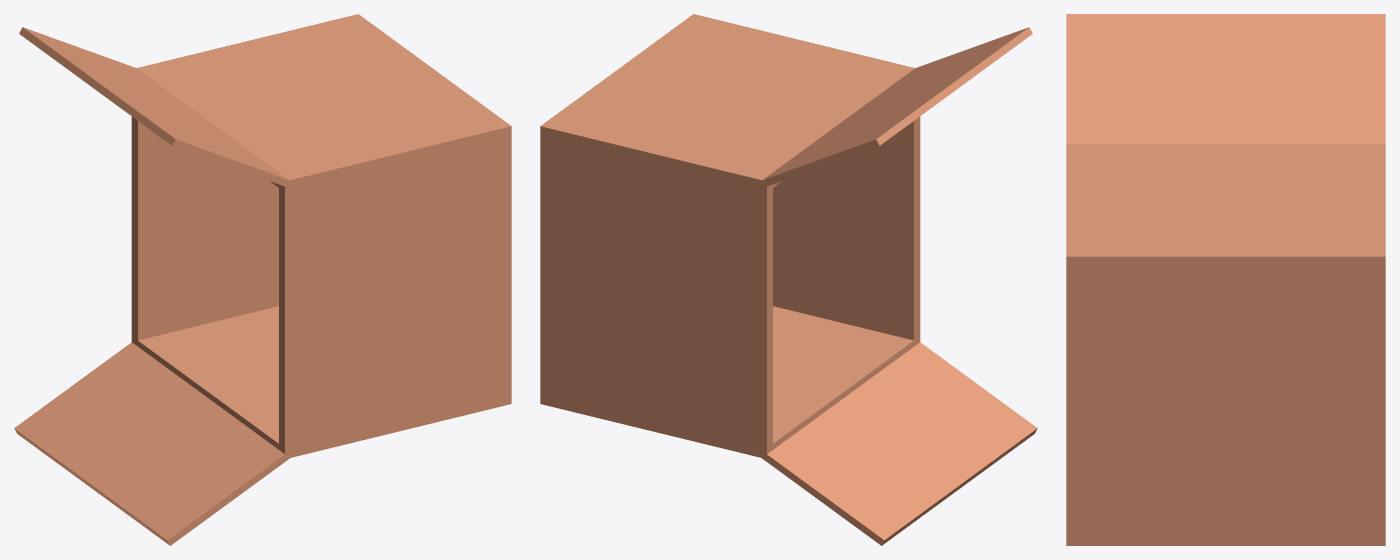
The model's file is SM_Cardboard_Box.gltf.
3 views of the same model, side by side, from view 1: azimuth 30°, elevation 25°; view 2: azimuth 150°, elevation 25°; view 3: azimuth 270°, elevation 25° (orthographic). The views are drawn at different scales.
Visible parts, largest first — view 1: SM_Cardboard_Right-convcol.001, SM_Cardboard_Roof.001, SM_Cardboard_Ramp-convcol.001, SM_Cardboard_Left-convcol.001, SM_Cardboard_Floor-convcol.001, SM_Cardboard_Top_Flap.001; view 2: SM_Cardboard_Left-convcol.001, SM_Cardboard_Roof.001, SM_Cardboard_Ramp-convcol.001, SM_Cardboard_Right-convcol.001, SM_Cardboard_Floor-convcol.001, SM_Cardboard_Top_Flap.001; view 3: SM_Cardboard-Back_convcol.001, SM_Cardboard_Top_Flap.001, SM_Cardboard_Roof.001.
Boxes of the visible parts, box(x1,y1,x2,y2) form: SM_Cardboard_Right-convcol.001: box(279, 126, 511, 459); SM_Cardboard_Roof.001: box(137, 14, 511, 187); SM_Cardboard_Ramp-convcol.001: box(14, 342, 289, 545); SM_Cardboard_Left-convcol.001: box(131, 116, 278, 343); SM_Cardboard_Floor-convcol.001: box(135, 306, 281, 451); SM_Cardboard_Top_Flap.001: box(19, 27, 289, 186); SM_Cardboard_Left-convcol.001: box(540, 126, 772, 459); SM_Cardboard_Roof.001: box(540, 14, 914, 187); SM_Cardboard_Ramp-convcol.001: box(762, 342, 1037, 545); SM_Cardboard_Right-convcol.001: box(773, 116, 920, 343); SM_Cardboard_Floor-convcol.001: box(770, 306, 916, 451); SM_Cardboard_Top_Flap.001: box(762, 27, 1032, 186); SM_Cardboard-Back_convcol.001: box(1066, 256, 1385, 545); SM_Cardboard_Top_Flap.001: box(1066, 14, 1385, 143); SM_Cardboard_Roof.001: box(1066, 143, 1385, 256).
Size of the model in its own units: 5.19 by 5.84 by 4.
